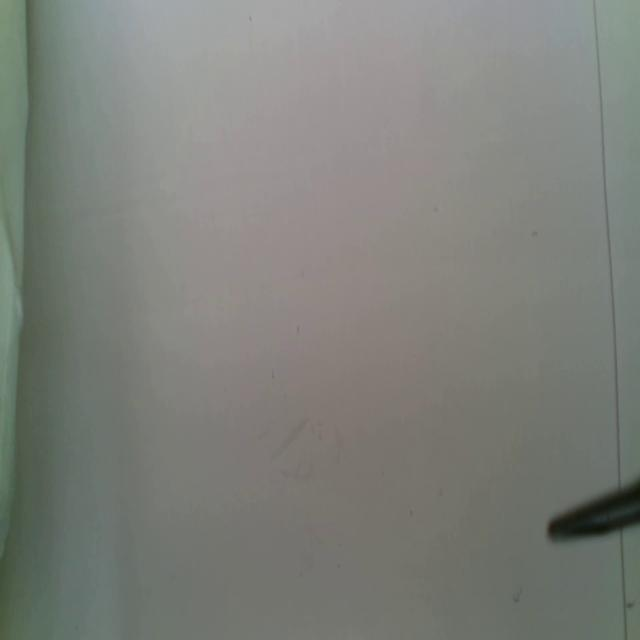crease: (592, 1, 622, 486), (618, 529, 628, 640)
